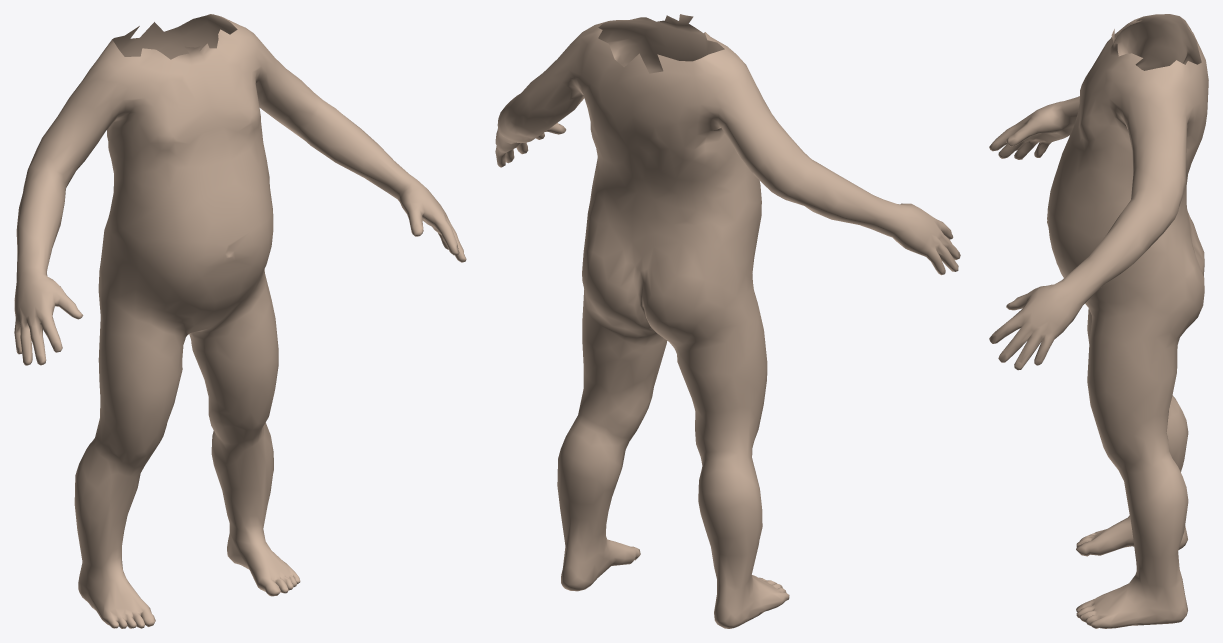
The model's file is baby_body.dae.
3 renders of one model, left to right at view 1: azimuth 30°, elevation 25°; view 2: azimuth 150°, elevation 25°; view 3: azimuth 270°, elevation 25°, orthographic. The views are drawn at different scales.
Parts seen in each view (by area): view 1: Baby_Body_0012; view 2: Baby_Body_0012; view 3: Baby_Body_0012.
Boxes of the visible parts, left/top/right/bottom form: Baby_Body_0012: left=14, top=14, right=466, bottom=628; Baby_Body_0012: left=495, top=14, right=960, bottom=628; Baby_Body_0012: left=989, top=14, right=1208, bottom=628.
Bounding box in the file's own units: 3.87 × 1.69 × 4.67.
